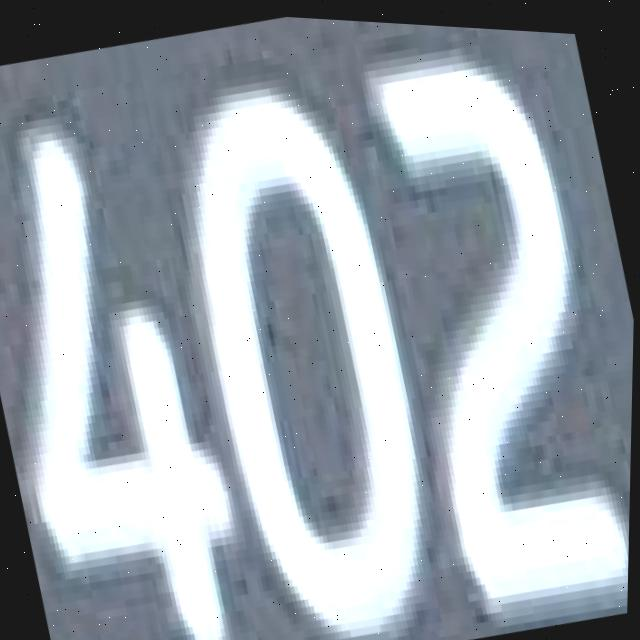character: (138, 40, 476, 640), (342, 21, 640, 638), (0, 75, 285, 640)
